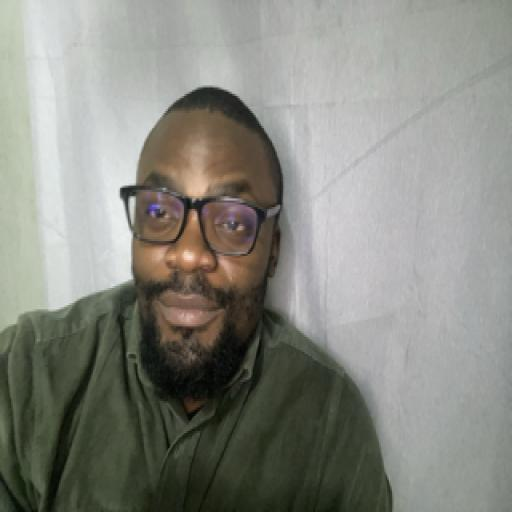JEANLUC: (129, 87, 280, 401)
